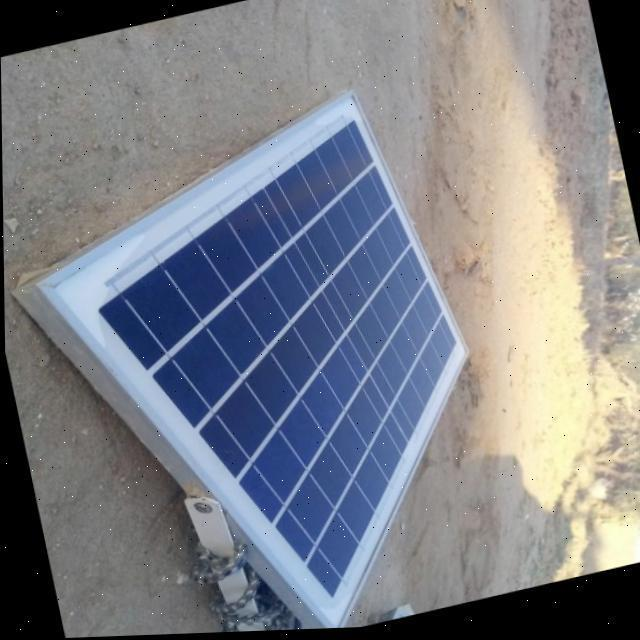Normal Solar Panel: (14, 78, 516, 640)
